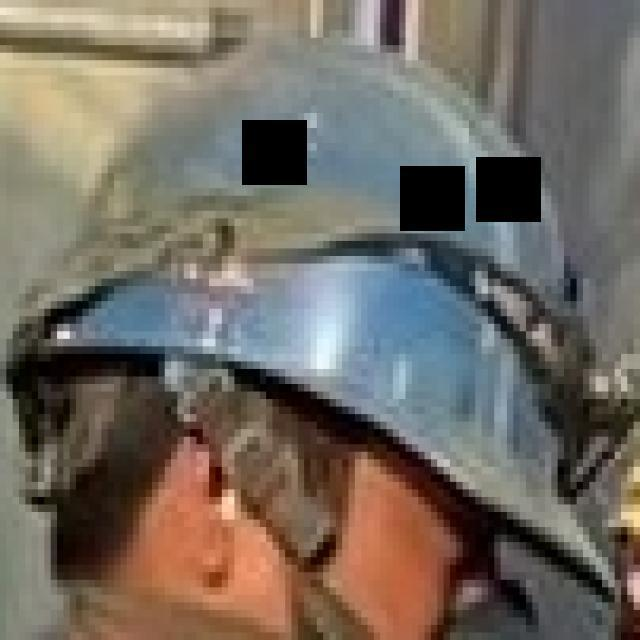blue helmet: (1, 24, 640, 623)
